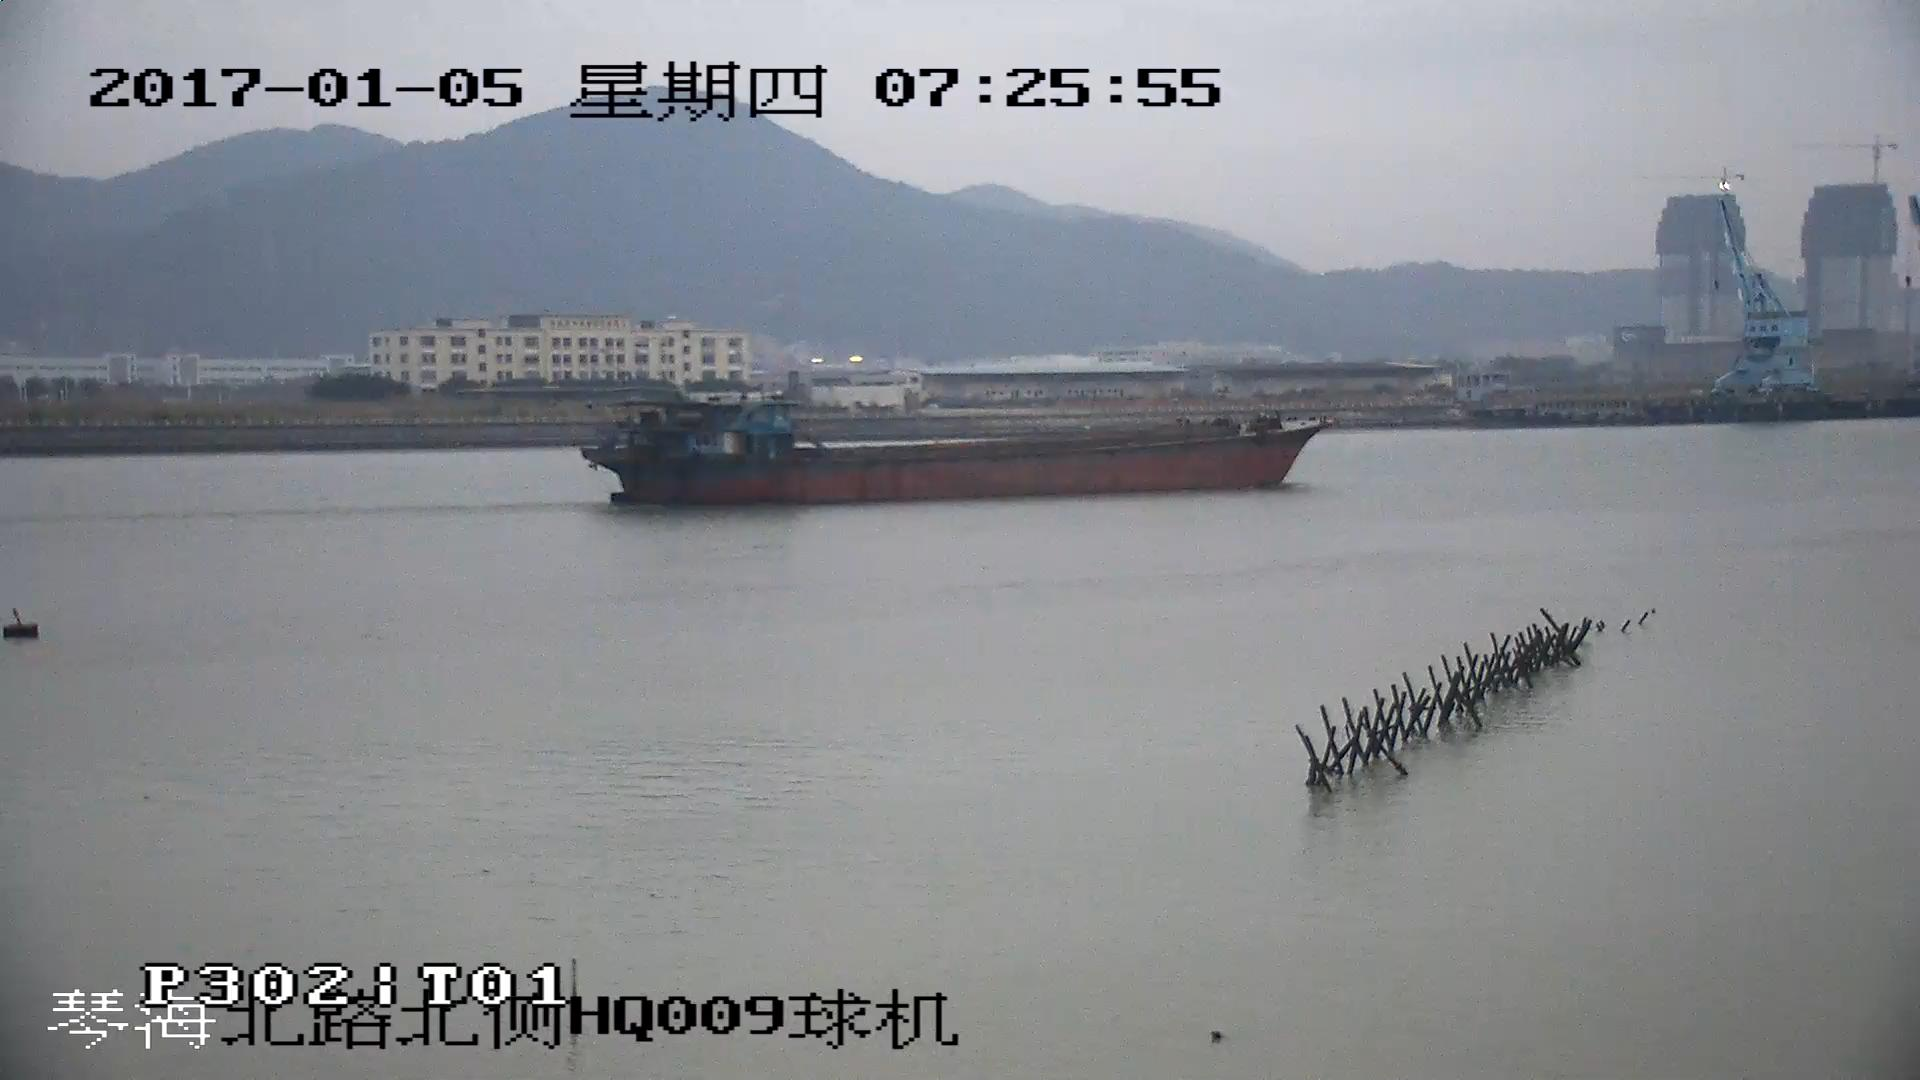bulk cargo carrier: (582, 402, 1328, 504)
